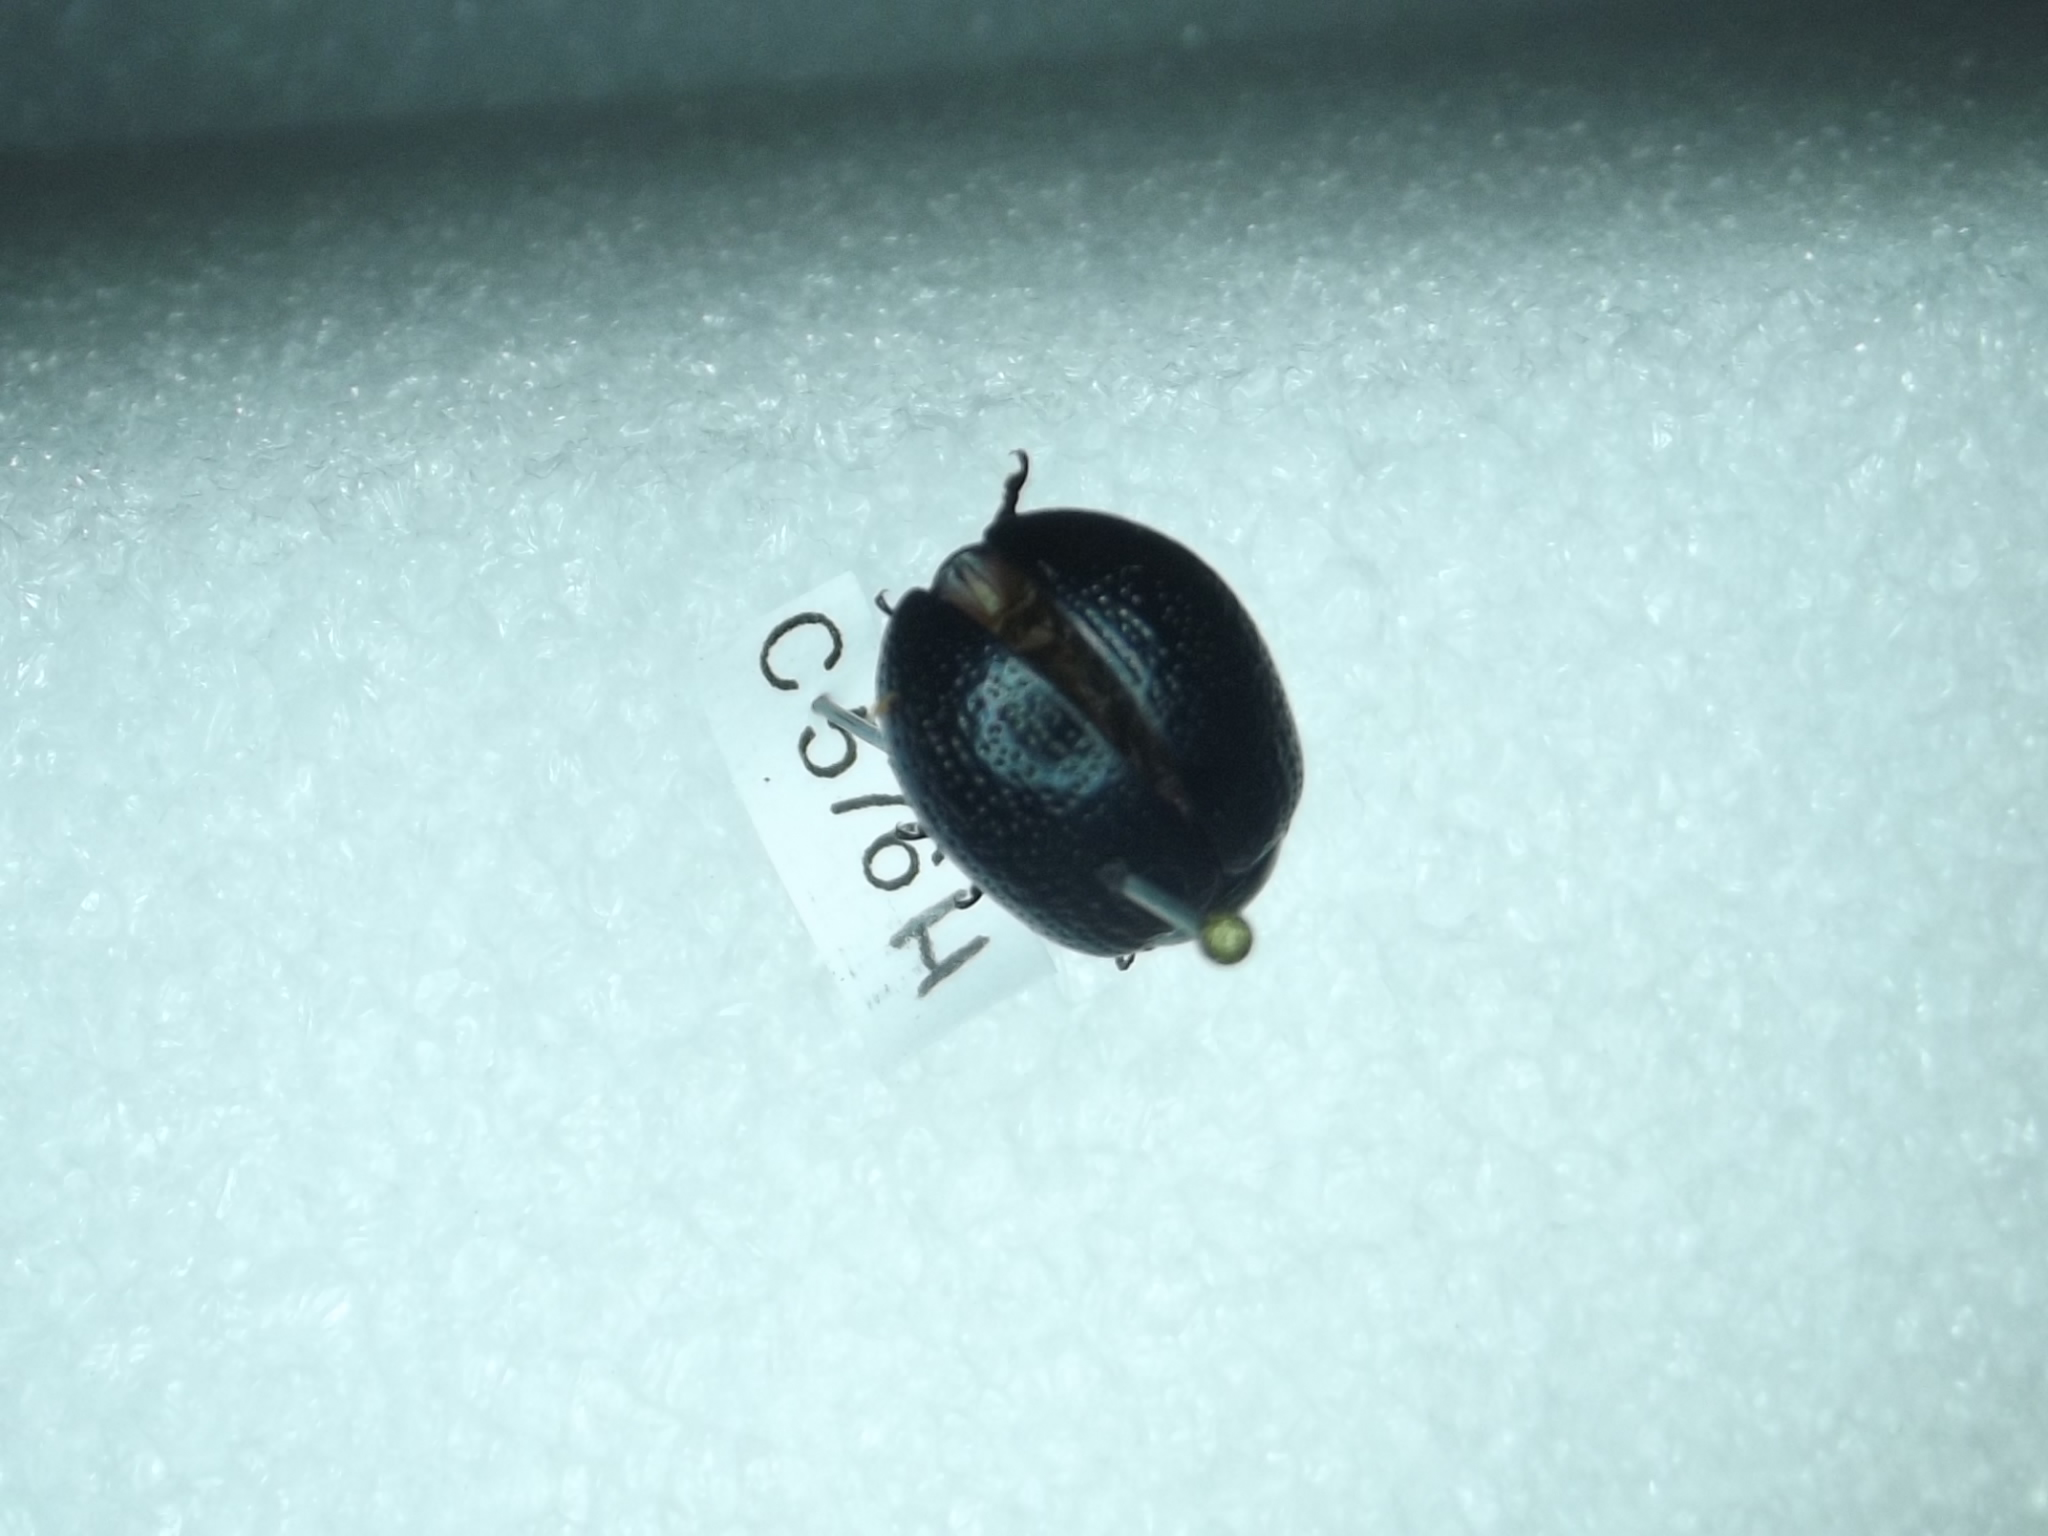Chrysolina_oricalcia: (856, 429, 1321, 975)
